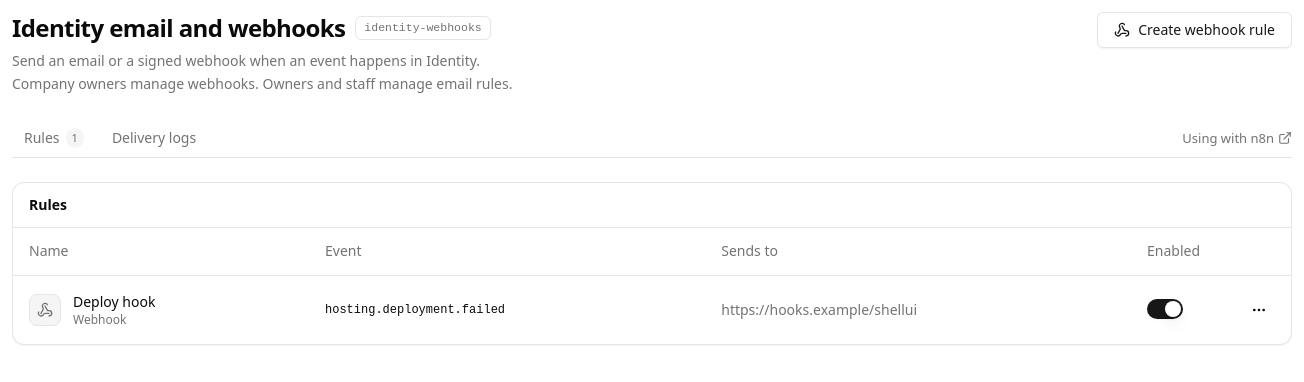
it: ActionsRulesListPage action feedback › shows enable and disable results on that rule row
Click the switch named "Deploy hook": (1165, 308) x1=1147 y1=298 x2=1183 y2=318
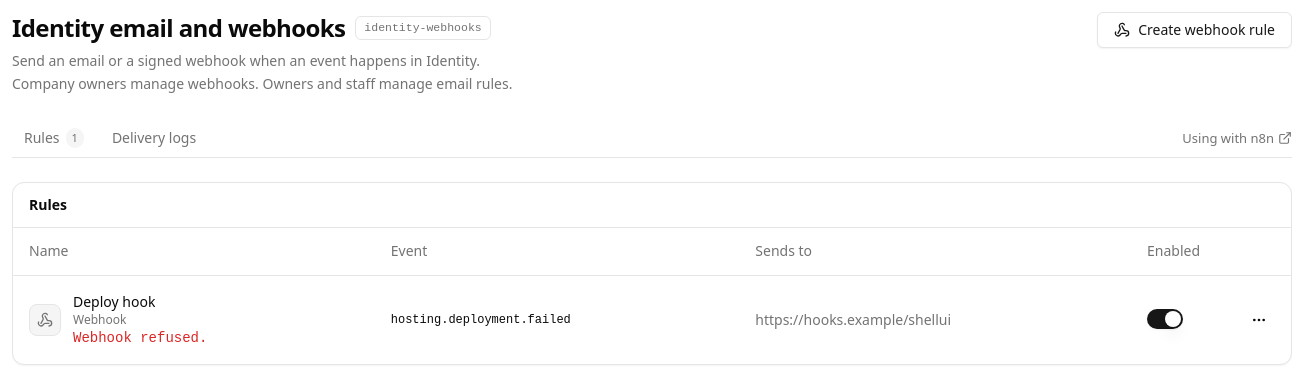
Result: the text "Webhook refused." is shown once at x1=73 y1=328 x2=207 y2=348
Click the switch named "Deploy hook": (1165, 318) x1=1147 y1=308 x2=1183 y2=328
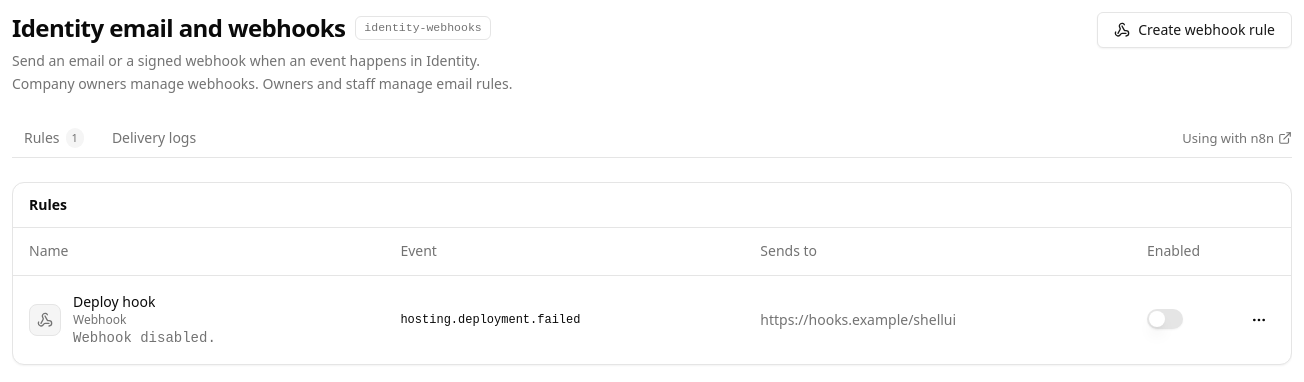
Result: the text "Webhook refused." is gone
